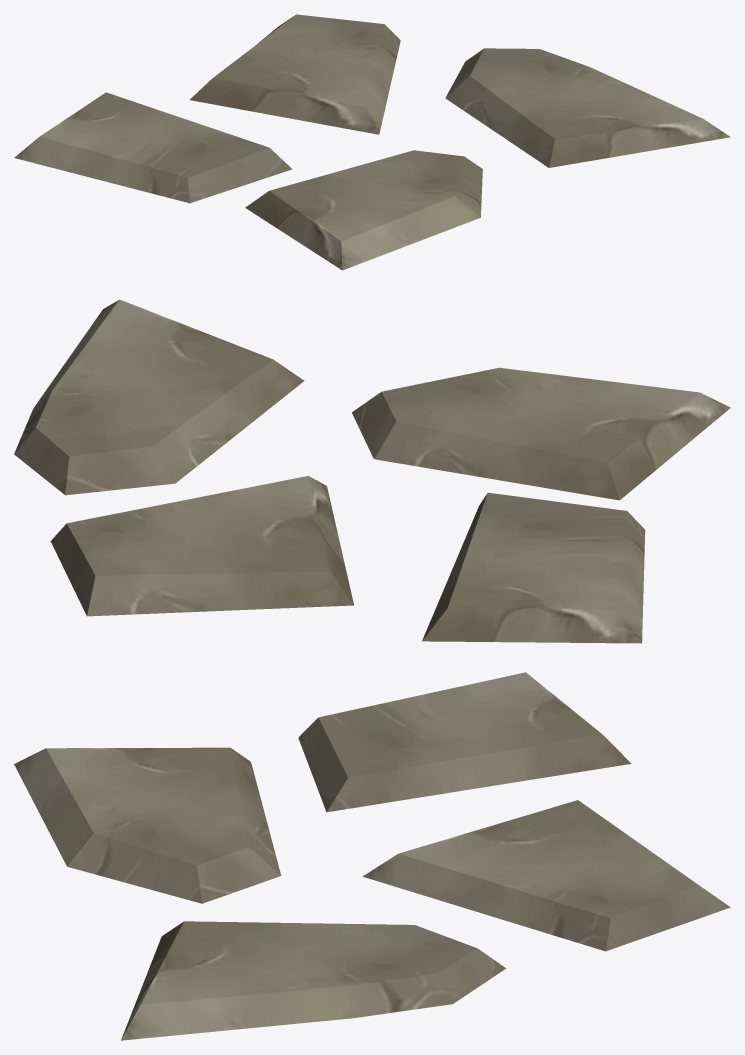
The model's file is Taverna entrada.fbx.
3 renders of one model, top to bottom at view 1: azimuth 30°, elevation 25°; view 2: azimuth 150°, elevation 25°; view 3: azimuth 270°, elevation 25°, orthographic. The views are drawn at different scales.
Visible parts, largest first — view 1: copia piso .031, copia piso .028, copia piso .032, copia piso .030; view 2: copia piso .031, copia piso .028, copia piso .030, copia piso .032; view 3: copia piso .031, copia piso .028, copia piso .030, copia piso .032.
Boxes of the visible parts, x1,y1,x2,y2 form: copia piso .031: (445, 48, 730, 167); copia piso .028: (245, 150, 482, 270); copia piso .032: (14, 92, 292, 203); copia piso .030: (190, 14, 400, 134); copia piso .031: (14, 299, 304, 495); copia piso .028: (352, 367, 730, 500); copia piso .030: (50, 476, 353, 616); copia piso .032: (422, 492, 645, 643); copia piso .031: (121, 921, 505, 1040); copia piso .028: (14, 747, 281, 903); copia piso .030: (363, 800, 730, 951); copia piso .032: (298, 672, 631, 812).
Size of the model in its own units: 217 by 9.18 by 183.
